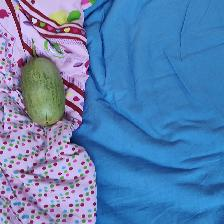gua: (24, 51, 66, 132)
